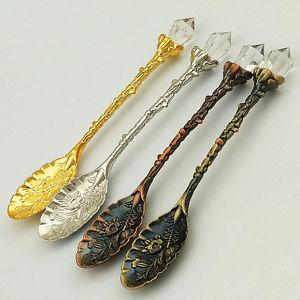Spoon: (75, 43, 264, 268), (120, 46, 294, 289), (39, 31, 232, 242), (7, 17, 195, 220)
